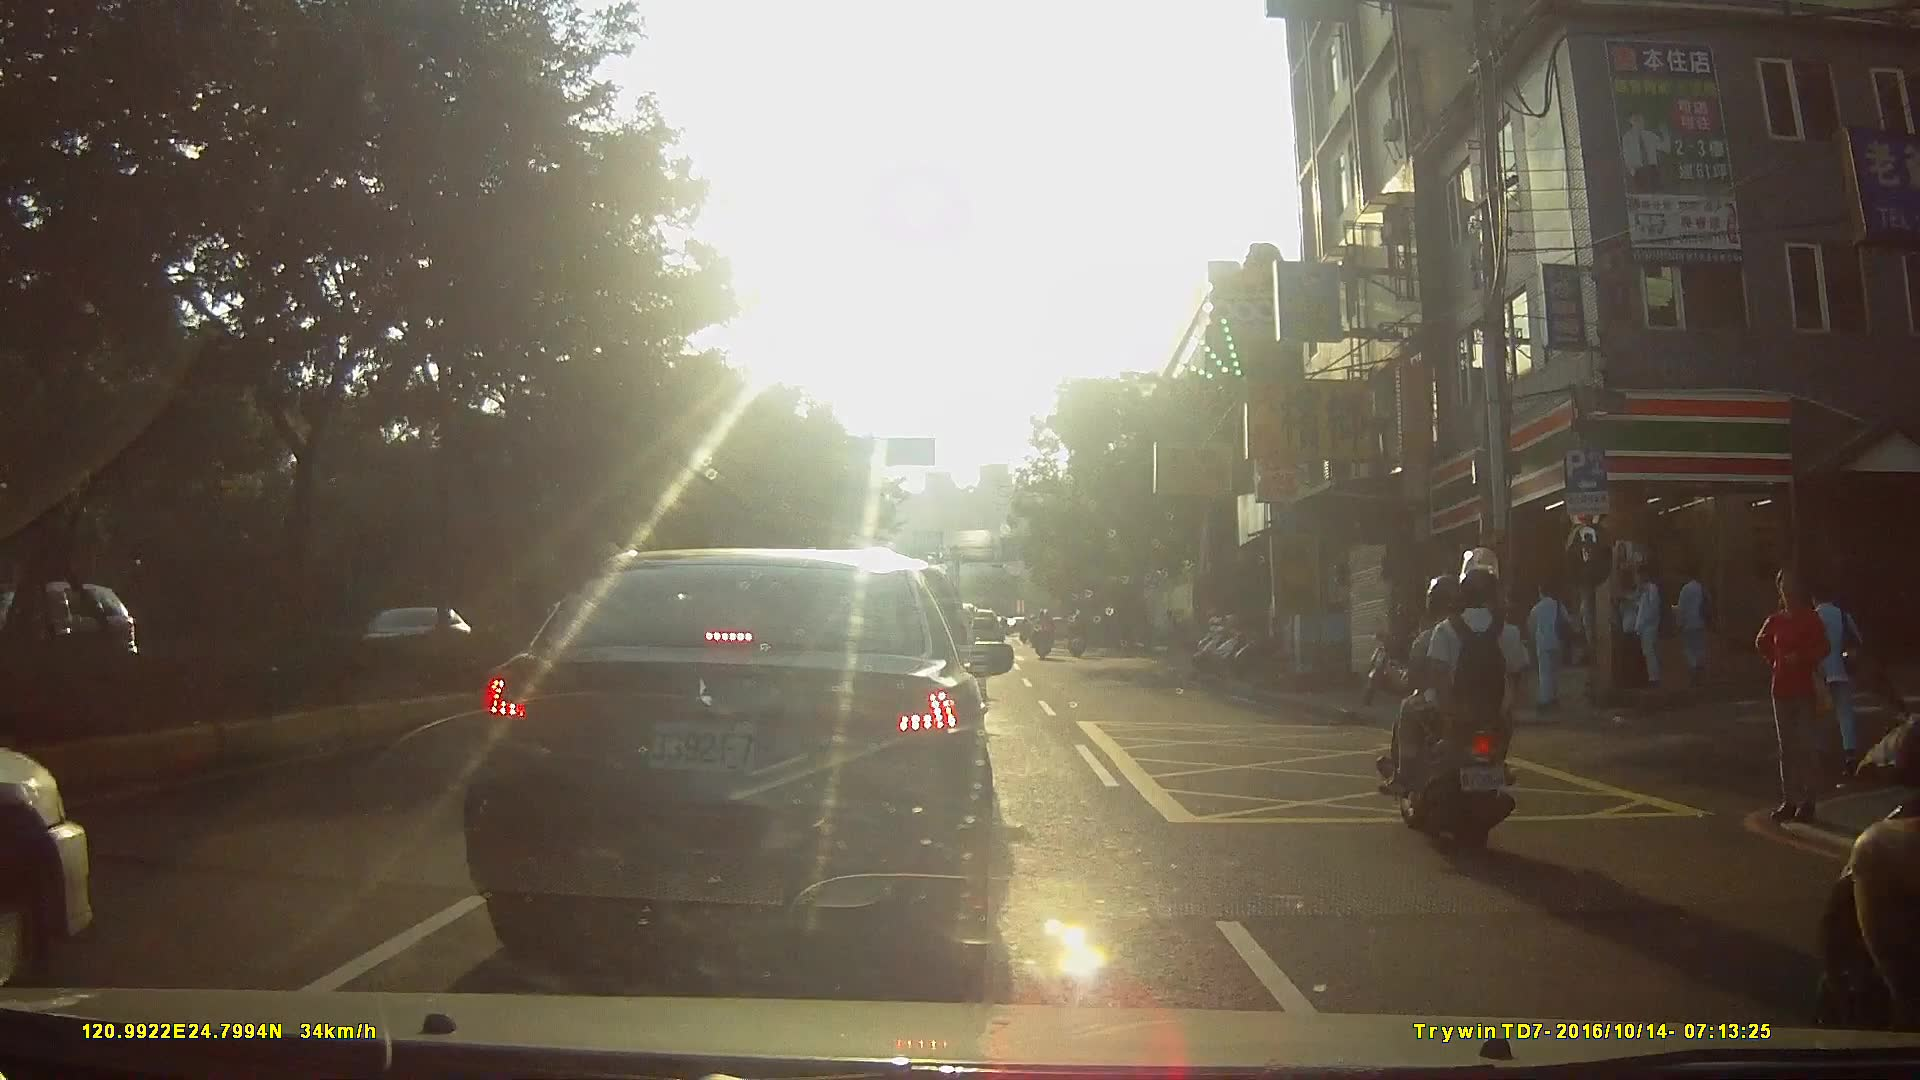pedestrian: (1756, 567, 1832, 824), (1793, 584, 1868, 781), (1619, 565, 1662, 690), (1677, 565, 1720, 681), (1612, 567, 1640, 698)
rider: (1814, 440, 1920, 1080), (1384, 545, 1540, 857), (1066, 612, 1088, 662), (1035, 607, 1055, 663)
vehicle: (460, 537, 1042, 970), (15, 578, 143, 688)
